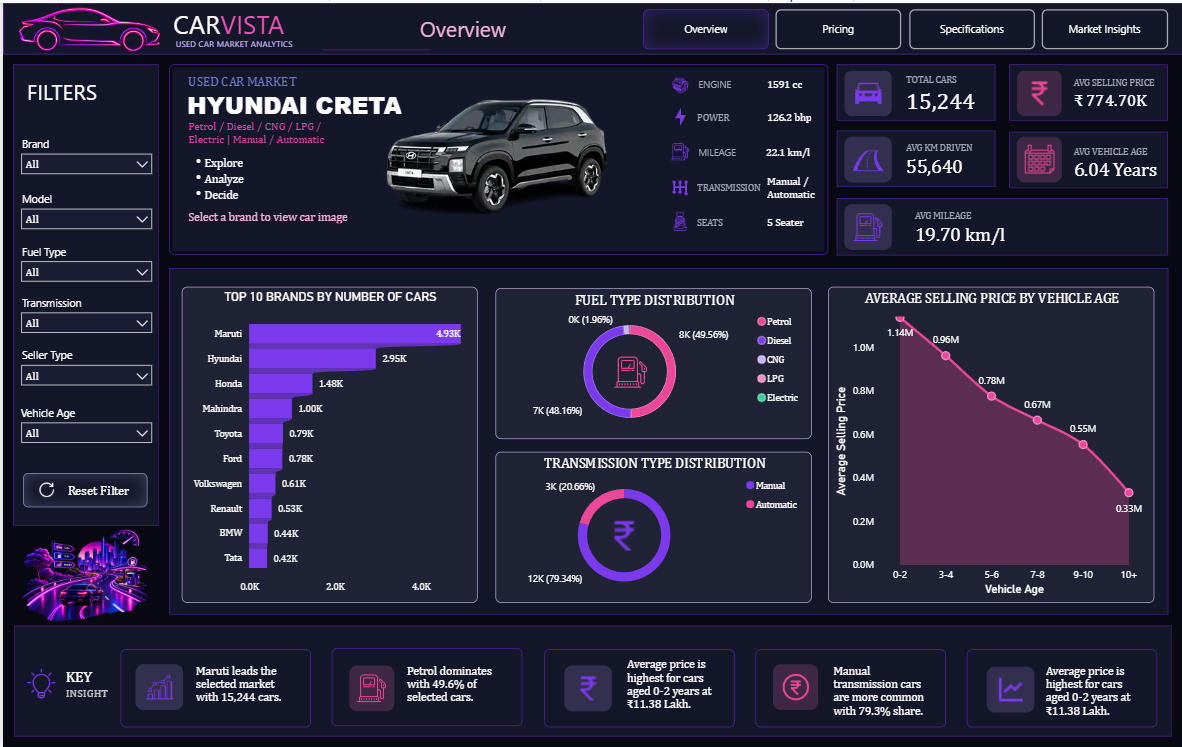

The page's visual inventory and layout, read from the dashboard file:
{"tool":"powerbi","page":{"name":"Overview","canvas":[1490,940],"ordinal":0},"visuals":[{"type":"shape","box":[0,0,1490,65],"z":0},{"type":"image","box":[28,833.7,40,50],"z":0,"group":"g9"},{"type":"group","id":"g1","title":"Group 1","box":[210,0,253.8,67.5],"z":1000},{"type":"textbox","box":[210,0,174.6,56.3],"z":1000,"group":"g1"},{"type":"textbox","box":[73.5,833.7,75.5,50.9],"z":1000,"group":"g9"},{"type":"textbox","box":[213,36,250.7,31],"z":2000,"group":"g1"},{"type":"shape","box":[12.9,77.1,184.3,581.4],"z":2000},{"type":"shape","box":[210,334,1259,437],"z":3000},{"type":"shape","box":[1051.2,161.2,200,71.4],"z":4000},{"type":"shape","box":[1051.2,246.2,417.5,72.5],"z":5000},{"type":"shape","box":[1267.6,162.6,200,71.4],"z":6000},{"type":"shape","box":[14,784.7,1458.8,140],"z":7000},{"type":"shape","box":[1214,814.7,240,98.6],"z":8000},{"type":"shape","box":[414,813.4,240,98.6],"z":9000},{"type":"shape","box":[949,814.7,240,98.6],"z":9000,"group":"g10"},{"type":"shape","box":[147.7,814.7,240,98.6],"z":10000},{"type":"shape","box":[681.5,814.7,240,98.6],"z":10000,"group":"g11"},{"type":"actionButton","box":[806.9,7.5,158.8,50],"z":11000},{"type":"shape","box":[400,45,141.7,26.7],"z":12000},{"type":"textbox","box":[25,88.8,125,48.8],"z":13000},{"type":"group","id":"g2","title":"Group 2","box":[12.5,164,185,63.4],"z":14000},{"type":"group","id":"g3","title":"Group 2","box":[12.5,232.8,185,63],"z":15000},{"type":"group","id":"g4","title":"Group 2","box":[13,300,185,63],"z":16000},{"type":"group","id":"g5","title":"Group 2","box":[12.5,364.3,185,63],"z":17000},{"type":"group","id":"g6","title":"Group 2","box":[12.5,430.8,185,63],"z":18000},{"type":"group","id":"g7","title":"Group 2","box":[12.5,503,185,63.5],"z":19000},{"type":"shape","box":[210,77.5,830,240],"z":20000},{"type":"barChart","title":"TOP 10 BRANDS BY NUMBER OF CARS","fields":{"Category":["cardekho_dataset.brand"],"Y":["cardekho_dataset.Total Cars"]},"box":[225.7,357.1,372.9,398.6],"z":21000},{"type":"donutChart","title":"FUEL TYPE DISTRIBUTION","fields":{"Y":["cardekho_dataset.Total Cars"],"Category":["cardekho_dataset.fuel_type"]},"box":[620,358.6,398.6,190],"z":22000},{"type":"slicer","fields":{"Values":["cardekho_dataset.brand"]},"box":[12.5,179.9,185,47.5],"z":23000,"group":"g2"},{"type":"slicer","fields":{"Values":["cardekho_dataset.model"]},"box":[12.5,248.7,185,47.5],"z":23000,"group":"g3"},{"type":"slicer","fields":{"Values":["cardekho_dataset.fuel_type"]},"box":[13,315.9,185,47.5],"z":23000,"group":"g4"},{"type":"lineChart","title":"AVERAGE SELLING PRICE BY VEHICLE AGE","fields":{"Y":["cardekho_dataset.Average Selling Price"],"Category":["cardekho_dataset.Vehicle Age Group"]},"box":[1040,357.1,411.4,398.6],"z":23000},{"type":"slicer","fields":{"Values":["cardekho_dataset.transmission_type"]},"box":[12.5,380.2,185,47.5],"z":23000,"group":"g5"},{"type":"slicer","fields":{"Values":["cardekho_dataset.seller_type"]},"box":[12.5,446.8,185,47],"z":23000,"group":"g6"},{"type":"slicer","fields":{"Values":["cardekho_dataset.Vehicle Age Group"]},"box":[12.5,519,185,47.5],"z":23000,"group":"g7"},{"type":"textbox","box":[19.3,164,85.7,30.7],"z":24000,"group":"g2"},{"type":"textbox","box":[19.3,232.8,85.7,30.7],"z":24000,"group":"g3"},{"type":"textbox","box":[19.8,300,85.7,30.7],"z":24000,"group":"g4"},{"type":"textbox","box":[19.3,364.3,85.7,30.7],"z":24000,"group":"g5"},{"type":"textbox","box":[19.3,430.8,85.7,30.7],"z":24000,"group":"g6"},{"type":"textbox","box":[17.3,503,85.7,30.7],"z":24000,"group":"g7"},{"type":"donutChart","title":"TRANSMISSION TYPE DISTRIBUTION","fields":{"Y":["cardekho_dataset.Total Cars"],"Category":["cardekho_dataset.transmission_type"]},"box":[620,565.7,398.6,190],"z":24000},{"type":"shape","box":[1051.2,77.5,200,71.4],"z":25000},{"type":"shape","box":[25.7,592.9,157,42.9],"z":25000,"group":"g8"},{"type":"shape","box":[1267.5,77.5,200,71.4],"z":26000},{"type":"textbox","box":[228.8,85,173.8,38.8],"z":27000},{"type":"textbox","box":[870.9,88.2,76.4,38.2],"z":28000},{"type":"textbox","box":[226.2,186.2,96.2,77.5],"z":29000},{"type":"textbox","box":[869.1,129.1,78.2,38.2],"z":30000},{"type":"textbox","box":[870.9,172.7,76.4,38.2],"z":31000},{"type":"textbox","box":[869.1,217.3,96.4,38.2],"z":32000},{"type":"textbox","box":[869.1,261.8,78.2,37.3],"z":33000},{"type":"cardVisual","fields":{"Data":["cardekho_dataset.Total Cars"]},"box":[1108.9,67.8,170,95.6],"z":34000},{"type":"image","box":[1060,84.4,60,57.8],"z":35000},{"type":"image","box":[1060,167.8,60,57.8],"z":36000},{"type":"image","box":[1060,253.3,60,57.8],"z":37000},{"type":"image","box":[1277.8,168.9,57,57.8],"z":38000},{"type":"image","box":[1277.8,84.4,57,57.8],"z":39000},{"type":"cardVisual","fields":{"Data":["cardekho_dataset.Average KM Driven"]},"box":[1108.9,150,170,95.6],"z":40000},{"type":"cardVisual","fields":{"Data":["cardekho_dataset.Average Mileage"]},"box":[1120,238.9,222.2,88.9],"z":41000},{"type":"cardVisual","fields":{"Data":["cardekho_dataset.Average Selling Price"]},"box":[1320,66.7,170,95.6],"z":42000},{"type":"cardVisual","fields":{"Data":["cardekho_dataset.Average Vehicle Age"]},"box":[1320,154.4,170,95.6],"z":43000},{"type":"image","box":[412.2,85.2,414.9,226.7],"z":44000},{"type":"cardVisual","fields":{"Data":["Car_Images.Hero Car Name"]},"box":[203.2,94.5,532.4,66.2],"z":45000},{"type":"cardVisual","fields":{"Data":["Car_Images.Hero Subtitle"]},"box":[228.8,140,221.2,63.8],"z":46000},{"type":"cardVisual","fields":{"Data":["cardekho_dataset.Selected Engine"]},"box":[957.5,86.7,82.5,29.2],"z":47000},{"type":"cardVisual","fields":{"Data":["cardekho_dataset.Selected Transmission"]},"box":[957.5,209.2,82.5,59.2],"z":48000},{"type":"cardVisual","fields":{"Data":["cardekho_dataset.Selected Power"]},"box":[957.5,129.2,82.5,29.2],"z":49000},{"type":"cardVisual","fields":{"Data":["cardekho_dataset.Selected Mileage"]},"box":[956.7,173.3,82.5,29.2],"z":50000},{"type":"cardVisual","fields":{"Data":["cardekho_dataset.Selected Seats"]},"box":[957.5,261.7,82.5,29.2],"z":51000},{"type":"cardVisual","fields":{"Data":["Car_Images.Car Image Status"]},"box":[228.4,253.6,222.1,80.3],"z":52000},{"type":"group","id":"g8","title":"Group 3","box":[25.7,592.9,157,43.3],"z":53000},{"type":"image","box":[33.8,593.1,43.8,43.1],"z":53010,"group":"g8"},{"type":"image","box":[833.8,83.1,40,40.8],"z":54000},{"type":"image","box":[833.8,123.1,40,40.8],"z":55000},{"type":"image","box":[833.8,166.9,40,40.8],"z":56000},{"type":"image","box":[833.8,213.1,40,40.8],"z":57000},{"type":"image","box":[833.8,255.4,40,40.8],"z":58000},{"type":"image","box":[167.7,833.4,60,57.5],"z":59000},{"type":"image","box":[436.5,834.7,57,57.8],"z":60000},{"type":"image","box":[1239,835.9,60,57.8],"z":61000},{"type":"cardVisual","fields":{"Data":["Car_Images.Insight Brand"]},"box":[238.6,825.1,138,87.8],"z":62000},{"type":"cardVisual","fields":{"Data":["Car_Images.Insight Fuel"]},"box":[504.3,825.1,134.5,86.6],"z":63000},{"type":"cardVisual","fields":{"Data":["cardekho_dataset.Pricing Insight Age"]},"box":[1308.3,825,135,100],"z":64000},{"type":"group","id":"g9","title":"Group 4","box":[28,833.7,120.9,50.9],"z":65000},{"type":"group","id":"g10","title":"Group 5","box":[949,814.7,240,125.3],"z":66000},{"type":"group","id":"g11","title":"Group 6","box":[681.5,814.7,240,115.3],"z":67000},{"type":"image","box":[0,0,218.3,65],"z":68000},{"type":"actionButton","box":[973.3,7.5,158.8,50],"z":69000},{"type":"image","box":[706.2,835.4,60,57.8],"z":69000,"group":"g11"},{"type":"actionButton","box":[1141.7,7.5,158.3,50],"z":70000},{"type":"image","box":[971.5,833.5,57,57.8],"z":70000,"group":"g10"},{"type":"actionButton","box":[1309.2,7.5,159.2,50],"z":71000},{"type":"textbox","box":[450,10,258.6,50],"z":72000},{"type":"cardVisual","fields":{"Data":["Car_Images.Insight Price"]},"box":[780,818,138,112],"z":74000,"group":"g11"},{"type":"cardVisual","fields":{"Data":["Car_Images.Insight Transmission"]},"box":[1042,826,136,114],"z":75000,"group":"g10"},{"type":"image","box":[758,436,68,58],"z":76000},{"type":"image","box":[752.5,642.5,60,57.5],"z":77000},{"type":"image","box":[12.6,658.4,184.3,126],"z":77001}]}

Visuals, with their boxes in screenshot pixels (x1, y1, x2, y2), scaled from the page's 1490x940 canvas onto the 1182x747 screenshot:
shape: 0,0,1181,52
image: 22,663,54,702
"Group 1" group: 167,0,368,54
textbox: 167,0,305,45
textbox: 58,663,118,703
textbox: 169,29,368,53
shape: 10,61,156,523
shape: 167,265,1165,613
shape: 834,128,993,185
shape: 834,196,1165,253
shape: 1006,129,1164,186
shape: 11,624,1168,735
shape: 963,647,1153,726
shape: 328,646,519,725
shape: 753,647,943,726
shape: 117,647,308,726
shape: 541,647,731,726
actionButton: 640,6,766,46
shape: 317,36,430,57
textbox: 20,71,119,109
"Group 2" group: 10,130,157,181
"Group 2" group: 10,185,157,235
"Group 2" group: 10,238,157,288
"Group 2" group: 10,290,157,340
"Group 2" group: 10,342,157,392
"Group 2" group: 10,400,157,450
shape: 167,62,825,252
"TOP 10 BRANDS BY NUMBER OF CARS" barChart: 179,284,475,601
"FUEL TYPE DISTRIBUTION" donutChart: 492,285,808,436
slicer - cardekho_dataset.brand: 10,143,157,181
slicer - cardekho_dataset.model: 10,198,157,235
slicer - cardekho_dataset.fuel_type: 10,251,157,289
"AVERAGE SELLING PRICE BY VEHICLE AGE" lineChart: 825,284,1151,601
slicer - cardekho_dataset.transmission_type: 10,302,157,340
slicer - cardekho_dataset.seller_type: 10,355,157,392
slicer - cardekho_dataset.Vehicle Age Group: 10,412,157,450
textbox: 15,130,83,155
textbox: 15,185,83,209
textbox: 16,238,84,263
textbox: 15,290,83,314
textbox: 15,342,83,367
textbox: 14,400,82,424
"TRANSMISSION TYPE DISTRIBUTION" donutChart: 492,450,808,601
shape: 834,62,993,118
shape: 20,471,145,505
shape: 1005,62,1164,118
textbox: 182,68,319,98
textbox: 691,70,751,100
textbox: 179,148,256,210
textbox: 689,103,751,133
textbox: 691,137,751,168
textbox: 689,173,766,203
textbox: 689,208,751,238
cardVisual - cardekho_dataset.Total Cars: 880,54,1015,130
image: 841,67,888,113
image: 841,133,888,179
image: 841,201,888,247
image: 1014,134,1059,180
image: 1014,67,1059,113
cardVisual - cardekho_dataset.Average KM Driven: 880,119,1015,195
cardVisual - cardekho_dataset.Average Mileage: 888,190,1065,260
cardVisual - cardekho_dataset.Average Selling Price: 1047,53,1181,129
cardVisual - cardekho_dataset.Average Vehicle Age: 1047,123,1181,199
image: 327,68,656,248
cardVisual - Car_Images.Hero Car Name: 161,75,584,128
cardVisual - Car_Images.Hero Subtitle: 182,111,357,162
cardVisual - cardekho_dataset.Selected Engine: 760,69,825,92
cardVisual - cardekho_dataset.Selected Transmission: 760,166,825,213
cardVisual - cardekho_dataset.Selected Power: 760,103,825,126
cardVisual - cardekho_dataset.Selected Mileage: 759,138,824,161
cardVisual - cardekho_dataset.Selected Seats: 760,208,825,231
cardVisual - Car_Images.Car Image Status: 181,202,357,265
"Group 3" group: 20,471,145,506
image: 27,471,62,506
image: 661,66,693,98
image: 661,98,693,130
image: 661,133,693,165
image: 661,169,693,202
image: 661,203,693,235
image: 133,662,181,708
image: 346,663,391,709
image: 983,664,1030,710
cardVisual - Car_Images.Insight Brand: 189,656,299,725
cardVisual - Car_Images.Insight Fuel: 400,656,507,725
cardVisual - cardekho_dataset.Pricing Insight Age: 1038,656,1145,735
"Group 4" group: 22,663,118,703
"Group 5" group: 753,647,943,746
"Group 6" group: 541,647,731,739
image: 0,0,173,52
actionButton: 772,6,898,46
image: 560,664,608,710
actionButton: 906,6,1031,46
image: 771,662,816,708
actionButton: 1039,6,1165,46
textbox: 357,8,562,48
cardVisual - Car_Images.Insight Price: 619,650,728,739
cardVisual - Car_Images.Insight Transmission: 827,656,934,746
image: 601,346,655,393
image: 597,511,645,556
image: 10,523,156,623
